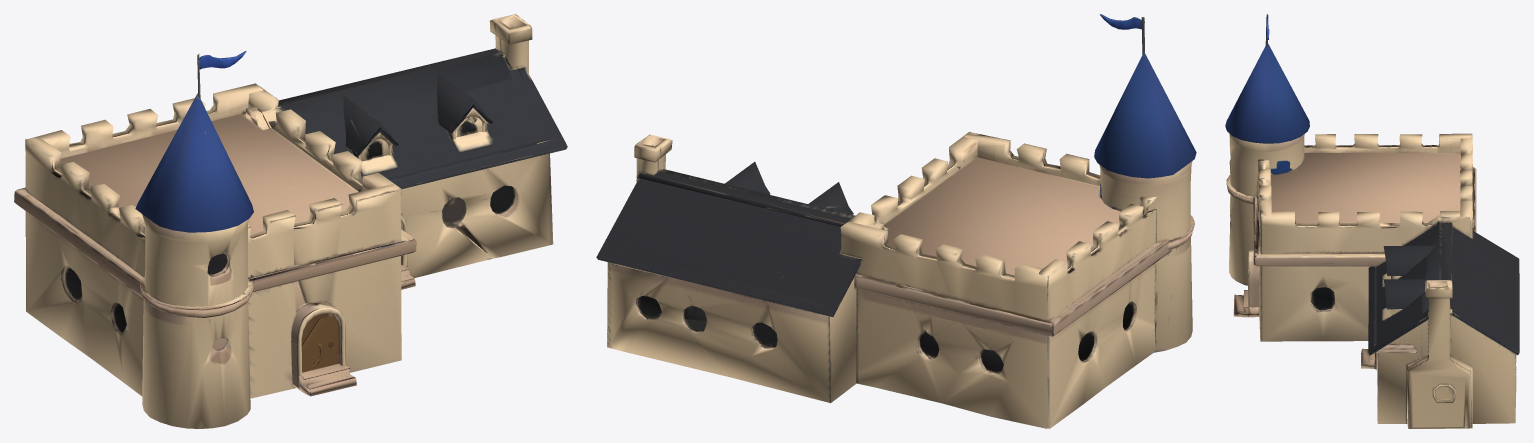
Rendered from meshy-c7-v1.glb.
3 views of the same model, side by side, from view 1: azimuth 30°, elevation 25°; view 2: azimuth 150°, elevation 25°; view 3: azimuth 270°, elevation 25° (orthographic). The views are drawn at different scales.
Size of the model in its own units: 1 by 0.6873 by 0.7113.
1 material, 1 textured.
